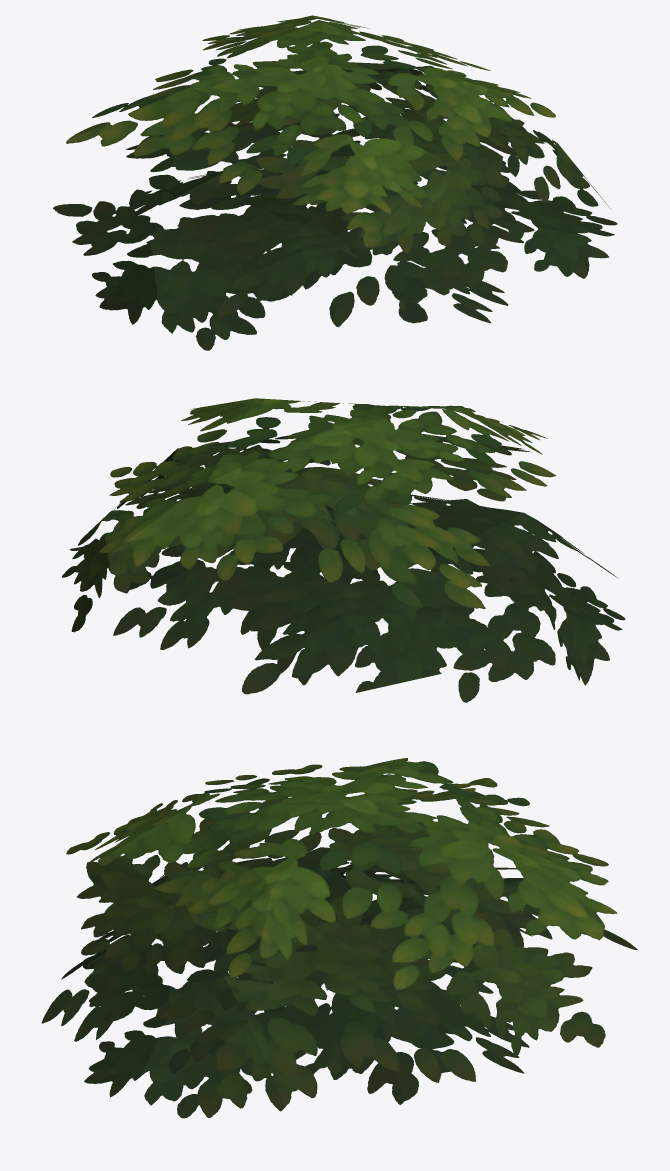
The model's file is bush_01.fbx.
3 views of the same model, one above another, from view 1: azimuth 30°, elevation 25°; view 2: azimuth 150°, elevation 25°; view 3: azimuth 270°, elevation 25° (orthographic). The views are drawn at different scales.
Visible parts, largest first — view 1: obj0.025; view 2: obj0.025; view 3: obj0.025.
Boxes of the visible parts, bbox=[...] form: obj0.025: bbox=[53, 15, 617, 350]; obj0.025: bbox=[62, 398, 625, 702]; obj0.025: bbox=[41, 758, 637, 1118].
Bounding box in the file's own units: 3.73 × 1.31 × 3.43.
